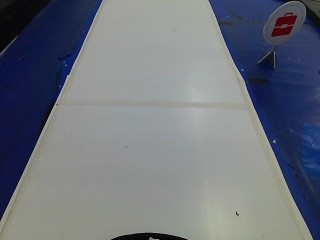company: (262, 2, 305, 46)
